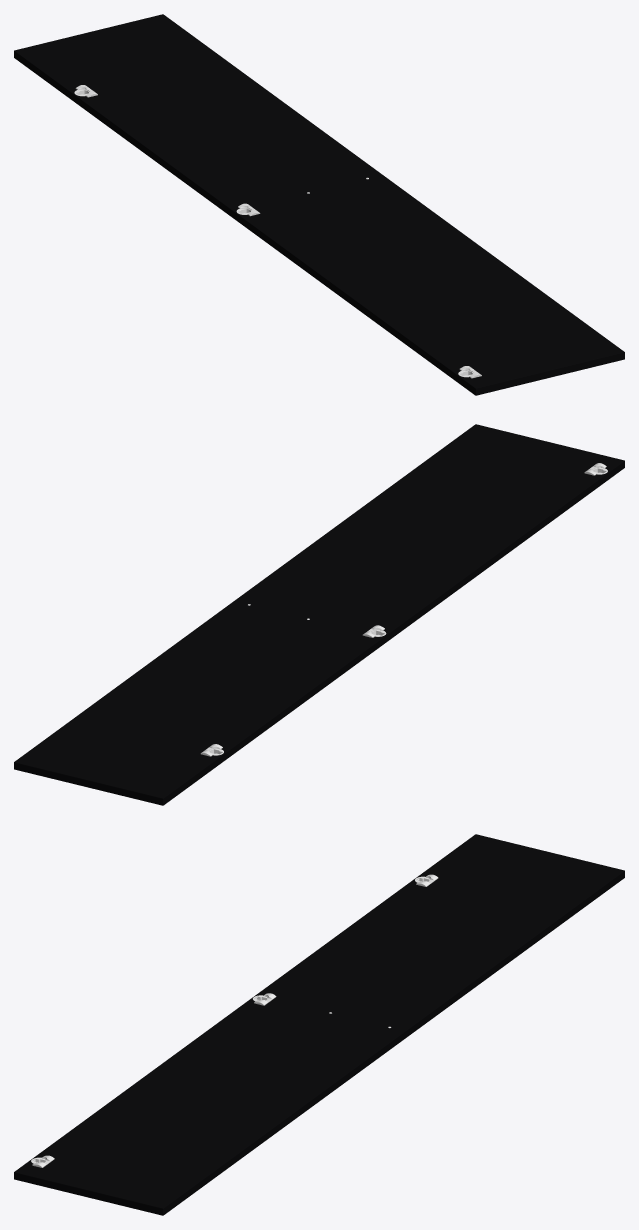
The model's file is SM_Kitchen_02_Door.obj.
The picture shows the model from 3 angles, top to bottom: view 1: azimuth 30°, elevation 25°; view 2: azimuth 150°, elevation 25°; view 3: azimuth 330°, elevation 25°; orthographic projection.
Visible parts, largest first — view 1: SM_Kitchen_02_Door; view 2: SM_Kitchen_02_Door; view 3: SM_Kitchen_02_Door.
Part boxes in pixels (x1,y1,x2,y2): SM_Kitchen_02_Door: [14, 14, 624, 395]; SM_Kitchen_02_Door: [14, 424, 624, 805]; SM_Kitchen_02_Door: [14, 834, 624, 1215].
Size of the model in its own units: 0.397 by 0.0249 by 2.12.
2 materials, 1 textured.
